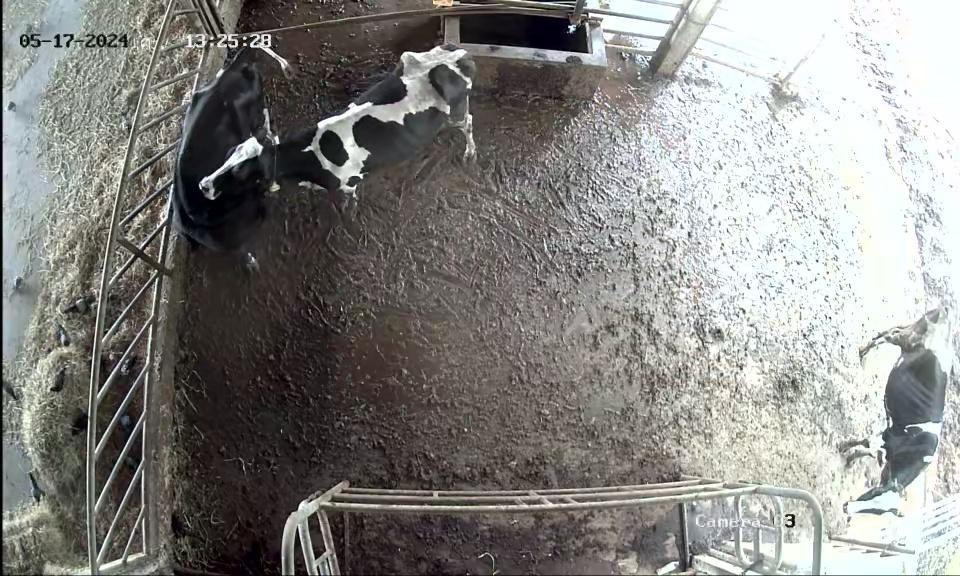lay: (166, 34, 291, 261)
stand: (186, 41, 493, 223), (834, 276, 960, 521)
